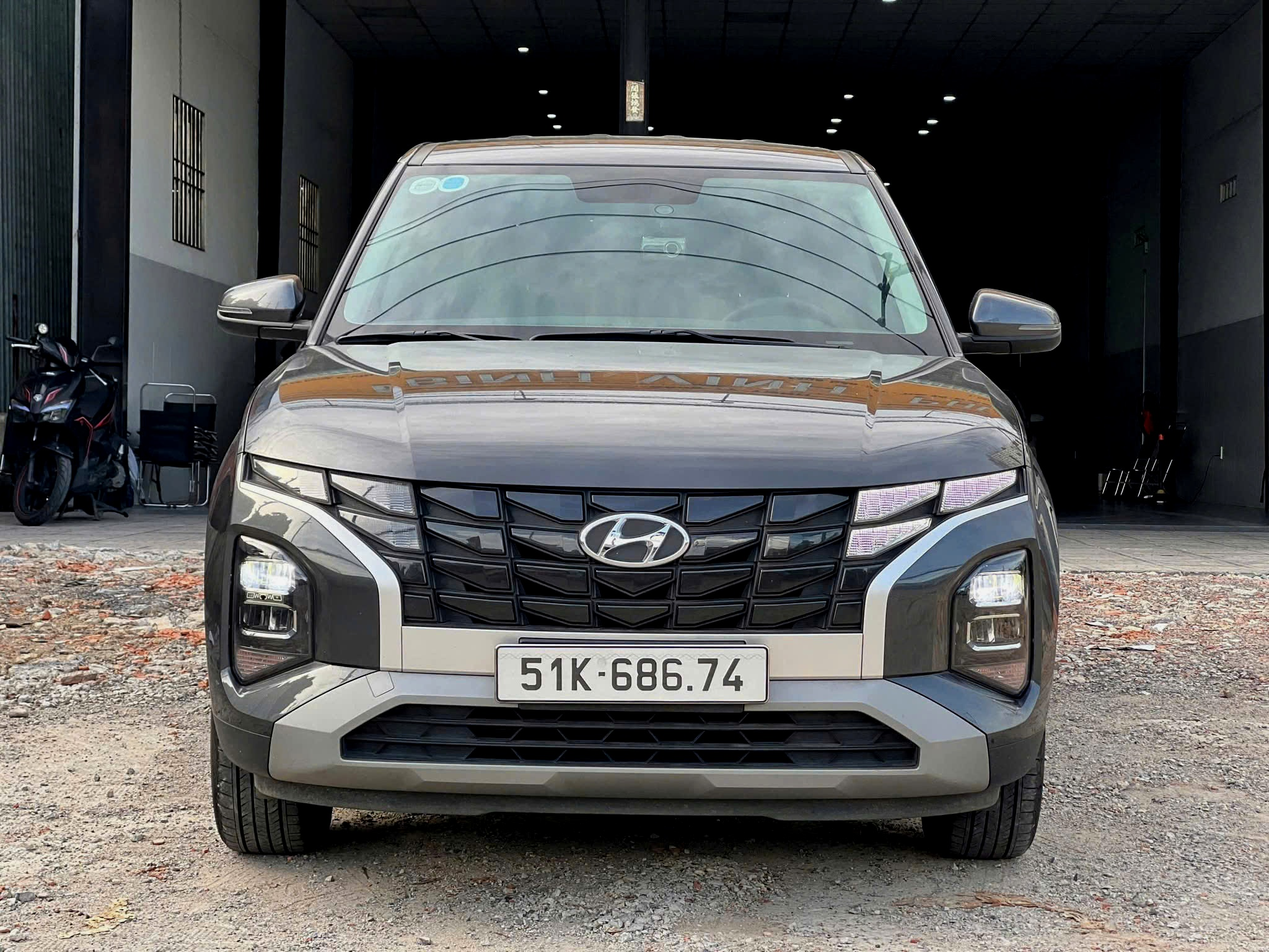Bien-so: (479, 626, 772, 690)
